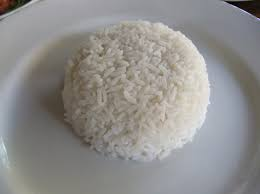Nasi putih: (68, 18, 211, 168)
